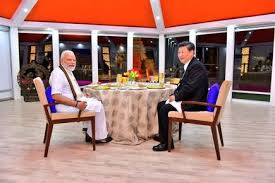Caution: (49, 40, 208, 152)
